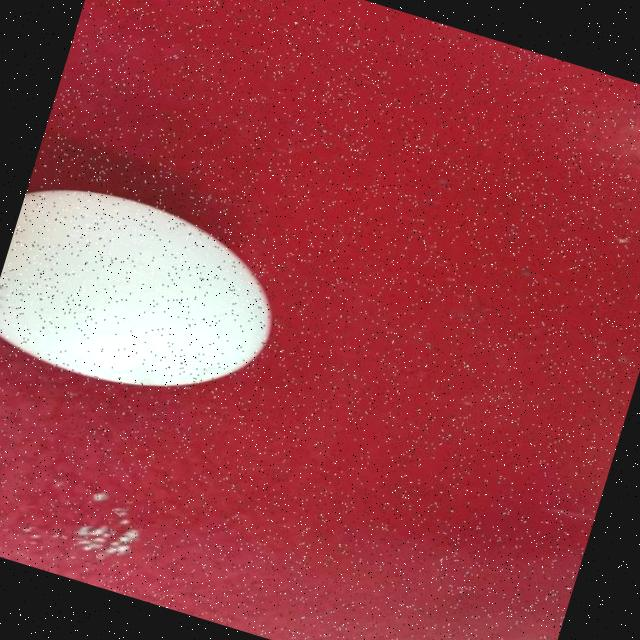ping-pong-ball: (0, 164, 297, 427)
